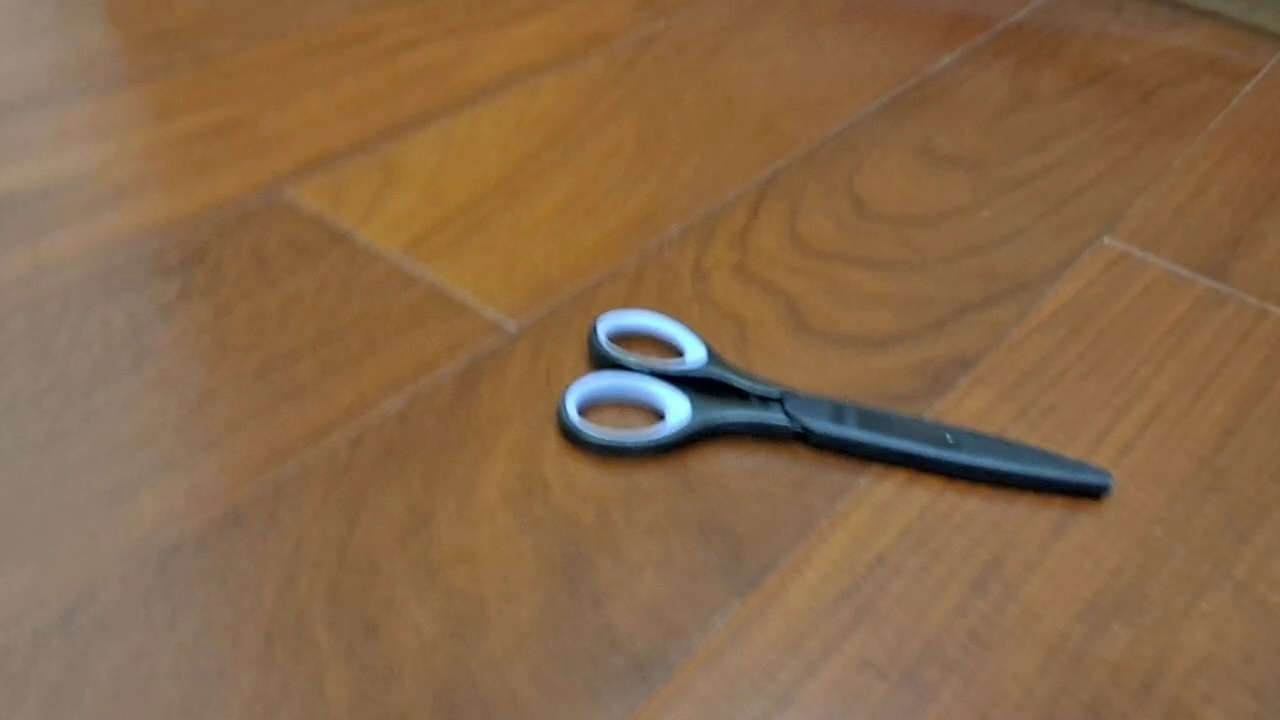scissors: (555, 305, 1116, 503)
